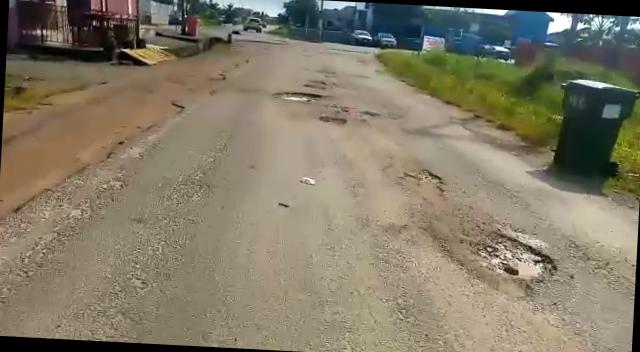pothole: (464, 225, 564, 283), (392, 166, 448, 198), (274, 90, 320, 104), (316, 112, 354, 126)
